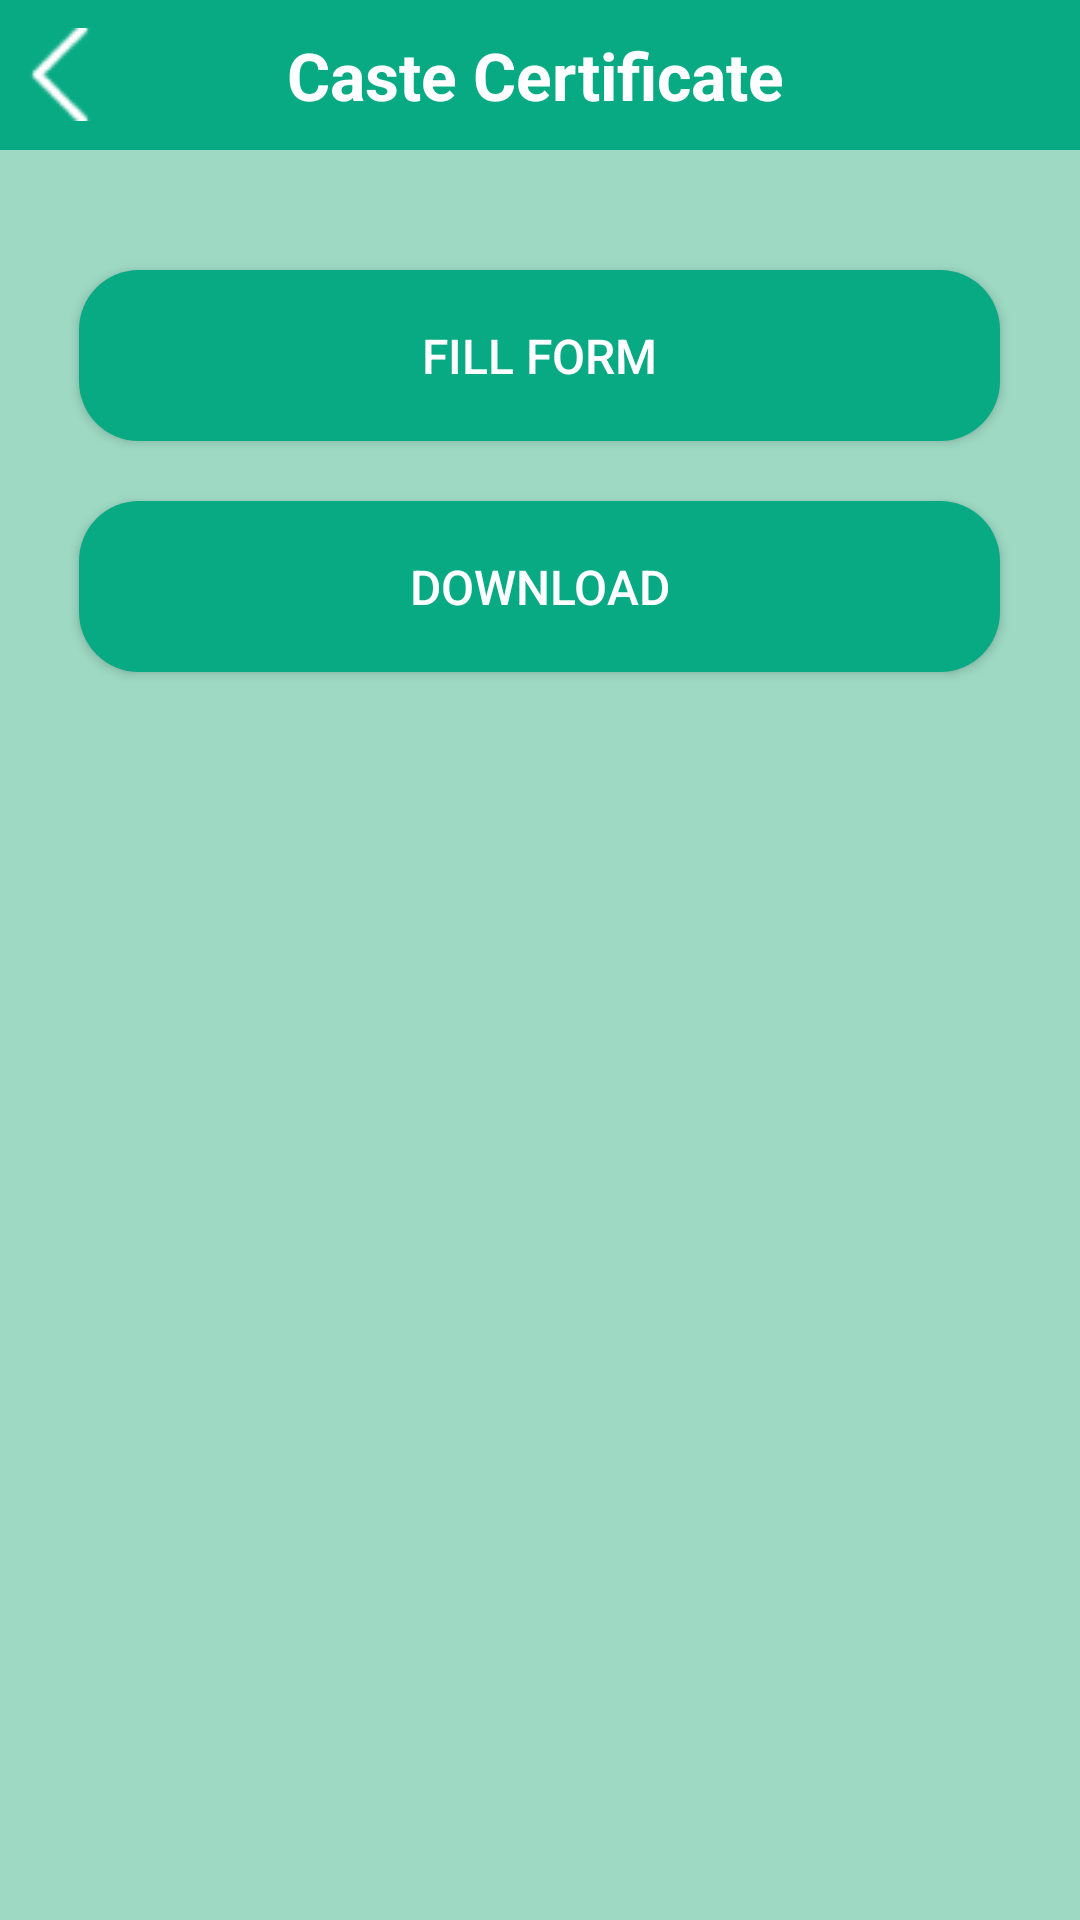

Named icons in this screenshot (1080px x 1920px) and their bounding boxes, (x1, y1, x2, y2):
leftarrow: (31, 28, 89, 121)
